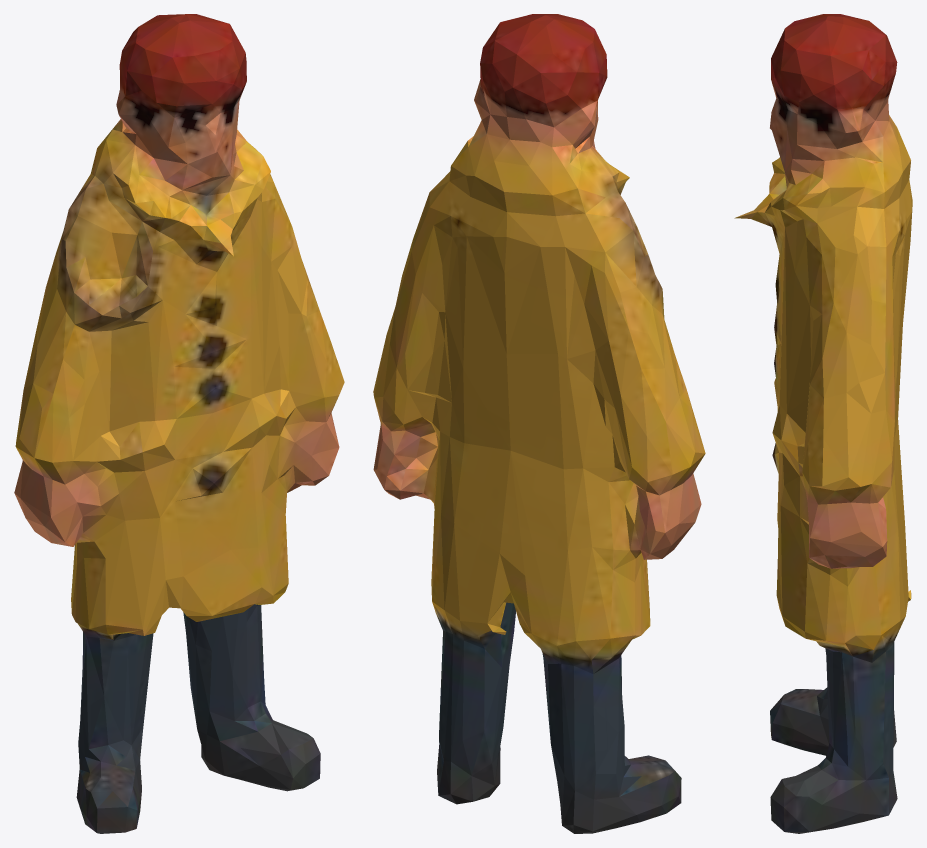
The model's file is habitant-loin.glb.
The picture shows the model from 3 angles, left to right: view 1: azimuth 30°, elevation 25°; view 2: azimuth 150°, elevation 25°; view 3: azimuth 270°, elevation 25°; orthographic projection. The views are drawn at different scales.
Parts seen in each view (by area): view 1: habitant; view 2: habitant; view 3: habitant.
Boxes of the visible parts, <box> form: habitant: <box>14,14,344,833</box>; habitant: <box>373,14,705,833</box>; habitant: <box>734,14,912,833</box>.
Size of the model in its own units: 0.4277 by 1.01 by 0.2129.
Materials: 1 (1 with a texture image).
